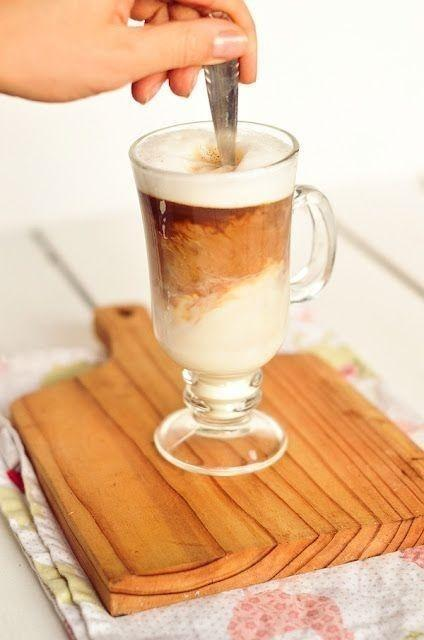glass-mug: (124, 115, 340, 476)
